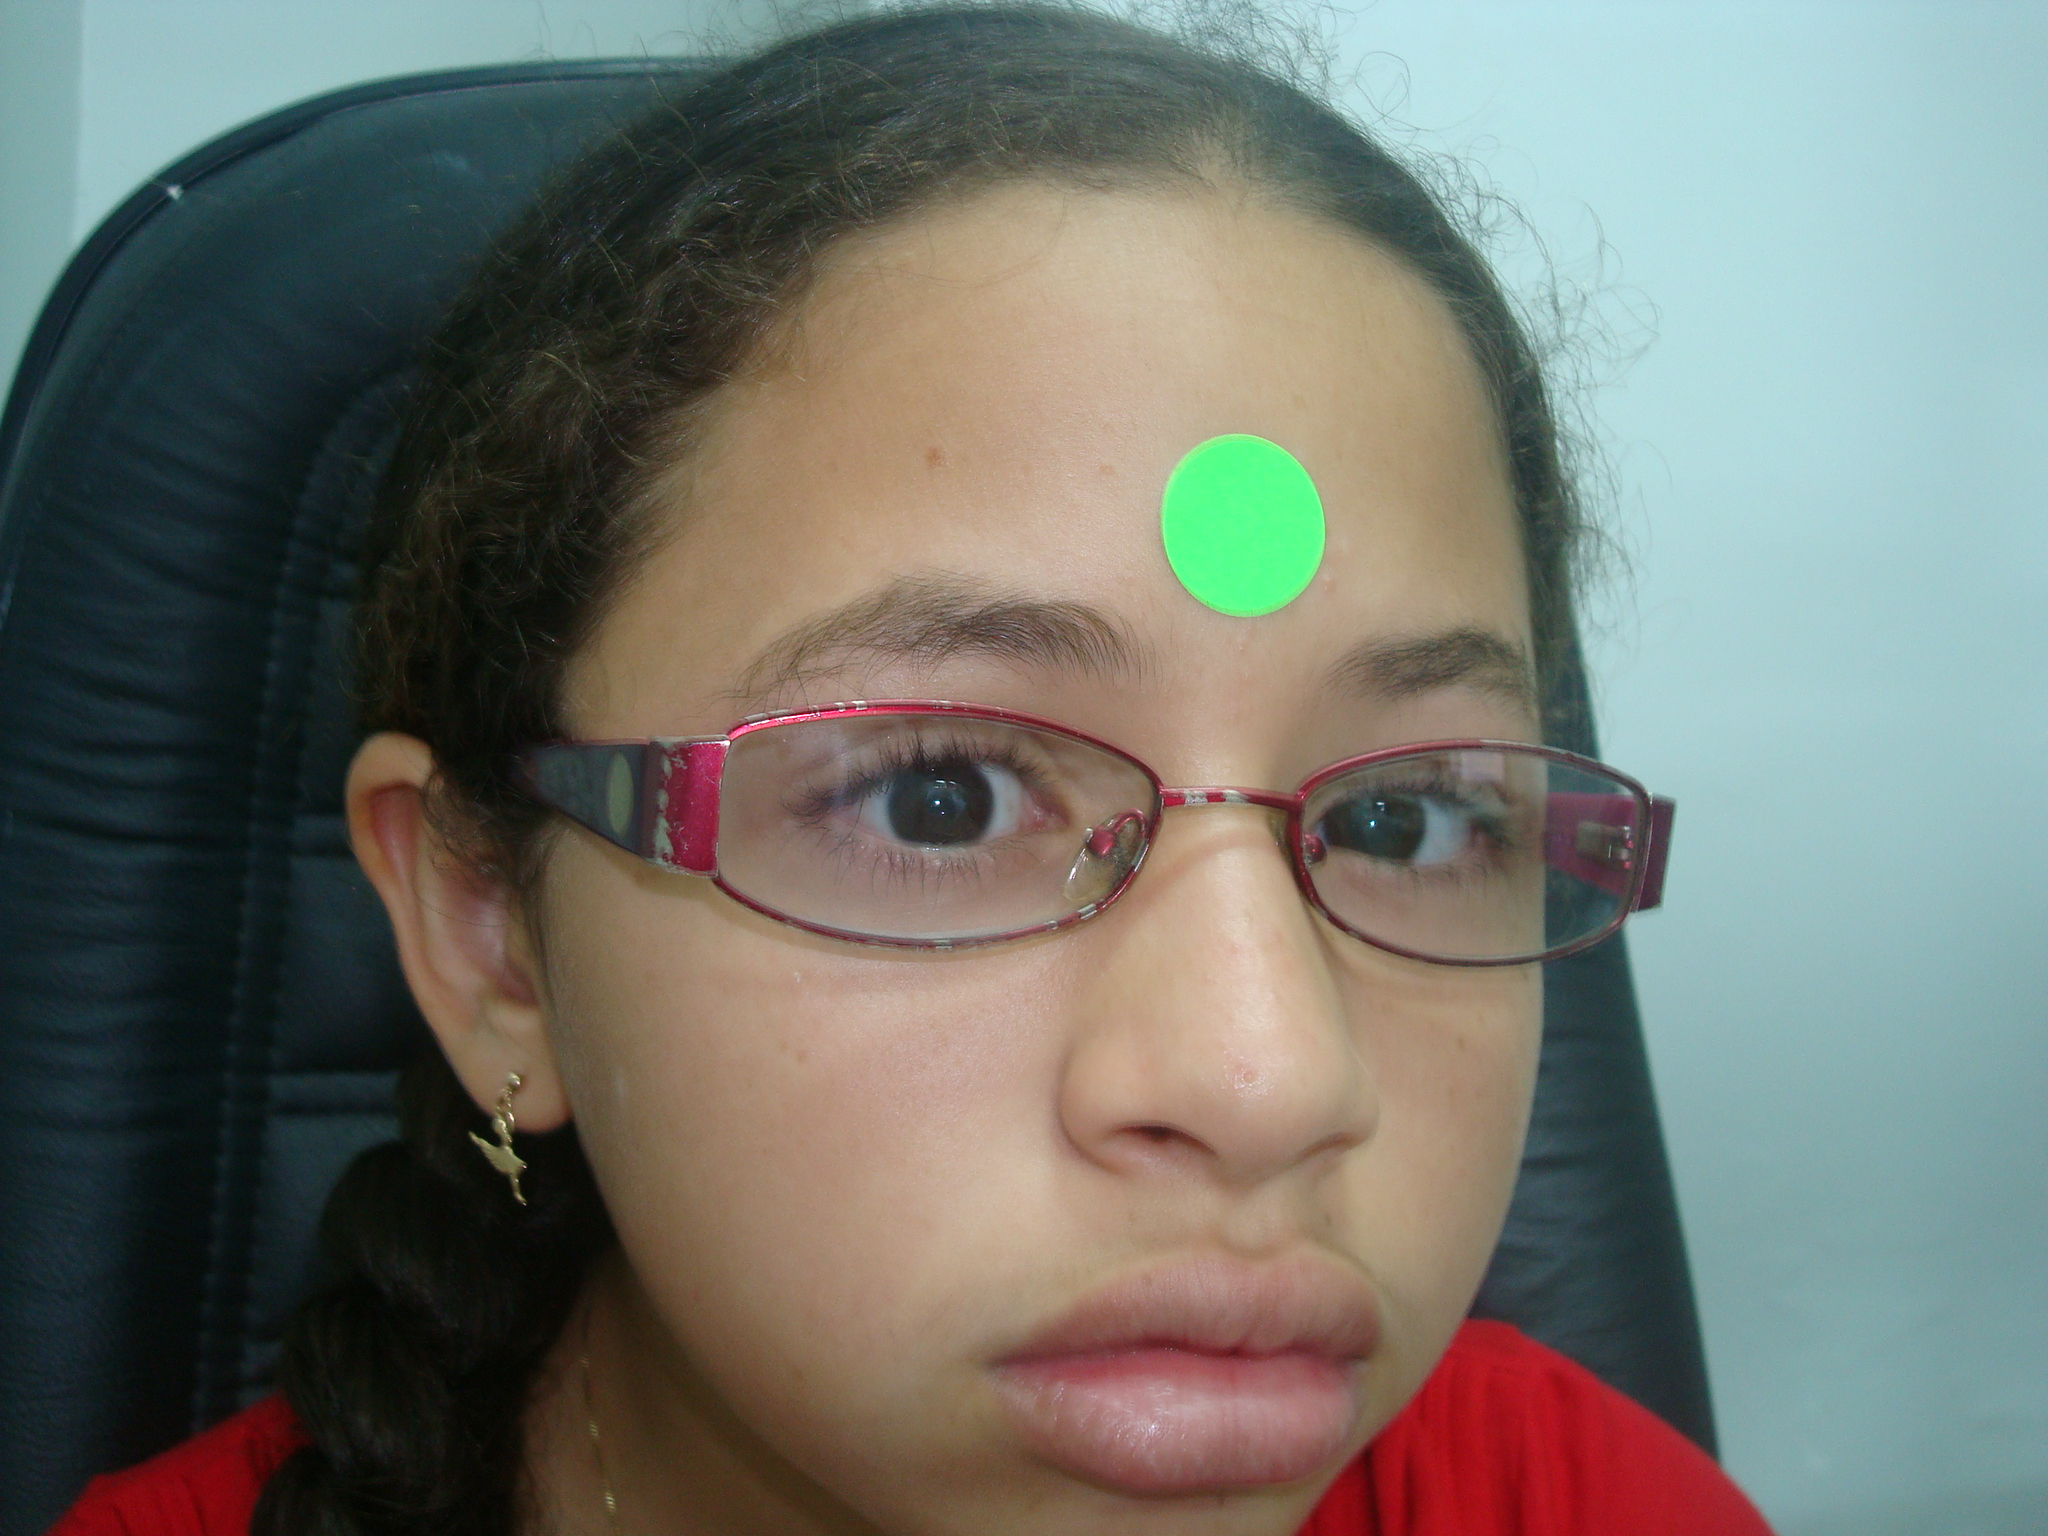flash: (930, 795, 943, 808), (1366, 818, 1379, 831)
limbo: (889, 762, 997, 845), (1324, 791, 1421, 863)
